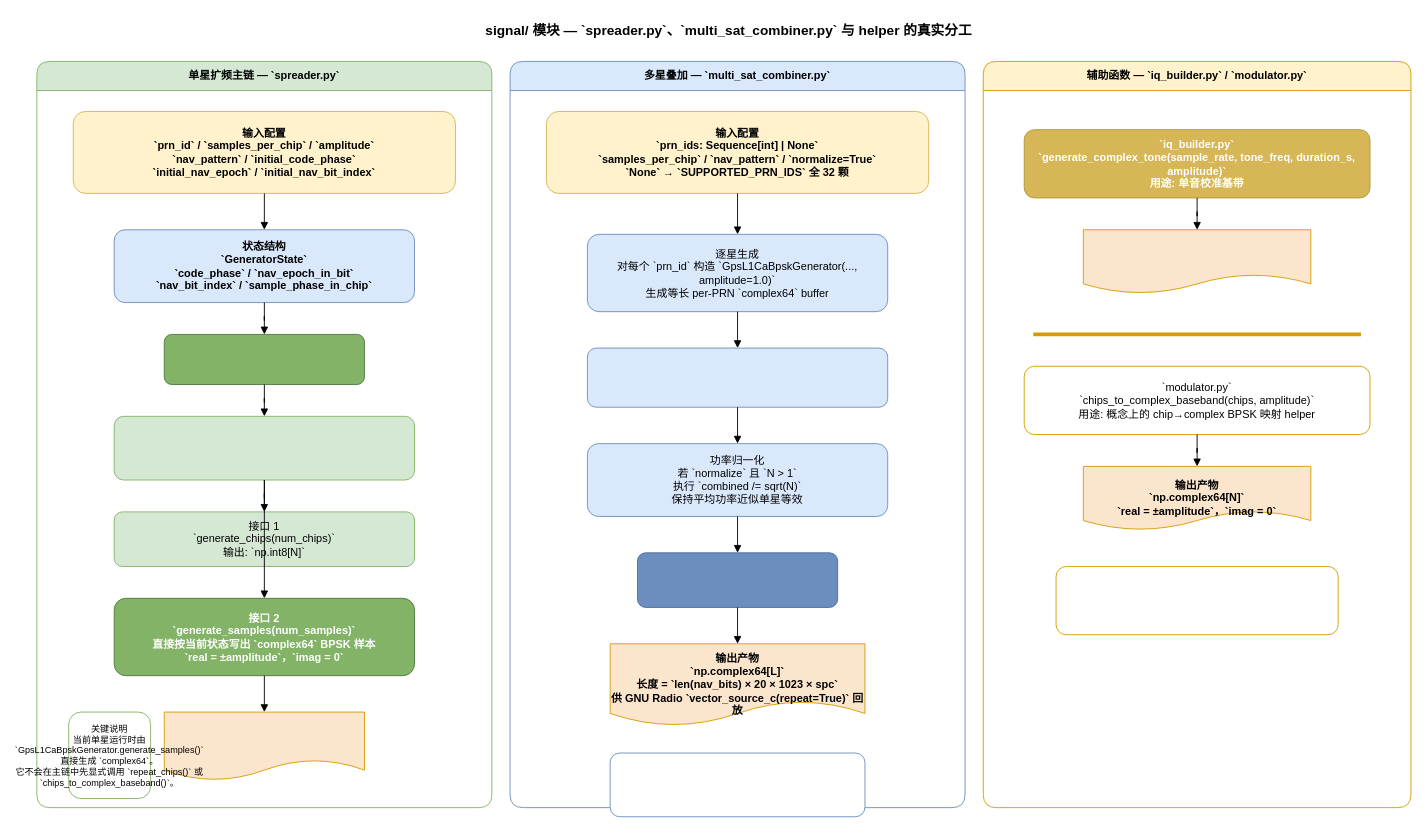
This 1427x833 diagram has some shape labels left out. Each missing label, with the centre of its shape:
chip 级逻辑 当前导航 bit × 当前 C/A chip 通过 `_advance_chip()` 推进三层时间尺度: point 264,447
修正后的归属 `iq_builder.py` 画单音，`modulator.py` 画 chip→complex。 旧图这两者的职责是写反的。: point 1196,600
当前约束 所有 PRN 共享同一个 `nav_pattern`。 每路 `initial_*` 相位默认都从 0 起步。: point 737,784
核心实现 `build_multi_sat_replay_samples(...)`: point 737,579
核心实现 `GpsL1CaBpskGenerator`: point 263,359
线性叠加 `combined += per_prn_buffer` 类型保持为 `np.complex64`: point 737,377
输出产物 `np.complex64[M]` 单星 replay buffer 的直接来源: point 263,745
输出产物 `np.complex64[N]` `x[n] = A · exp(j 2π f n / fs)`: point 1196,261
